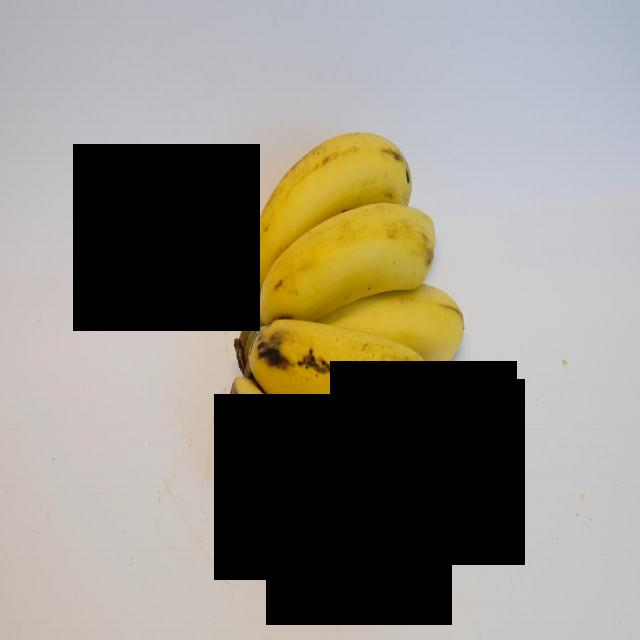banana: (237, 299, 450, 450), (222, 350, 389, 536), (250, 205, 469, 319), (246, 136, 417, 223), (345, 259, 476, 367), (332, 441, 433, 561)
